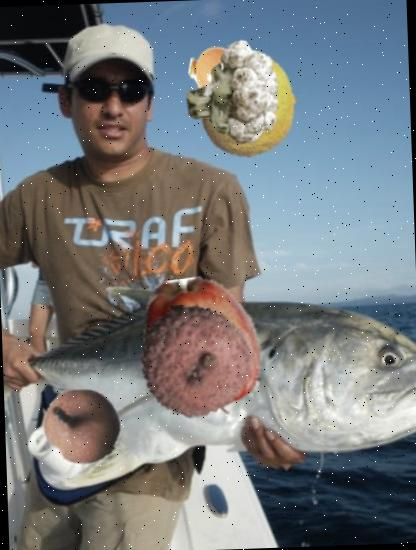Apple: (129, 275, 274, 420)
Cantaloupe: (192, 46, 306, 160)
Cauliflower: (182, 38, 290, 146)
Granadilla: (42, 386, 124, 468)
Lychee: (136, 301, 256, 422)
Physalis: (188, 44, 244, 100)
